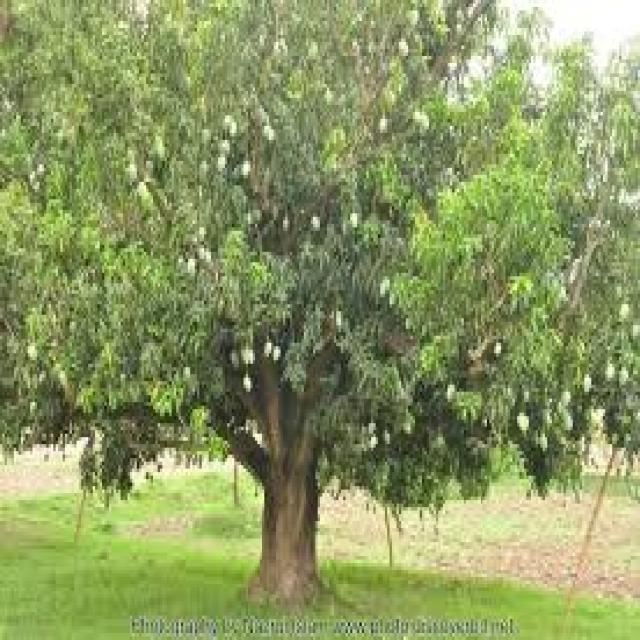Tree: (24, 1, 590, 610)
